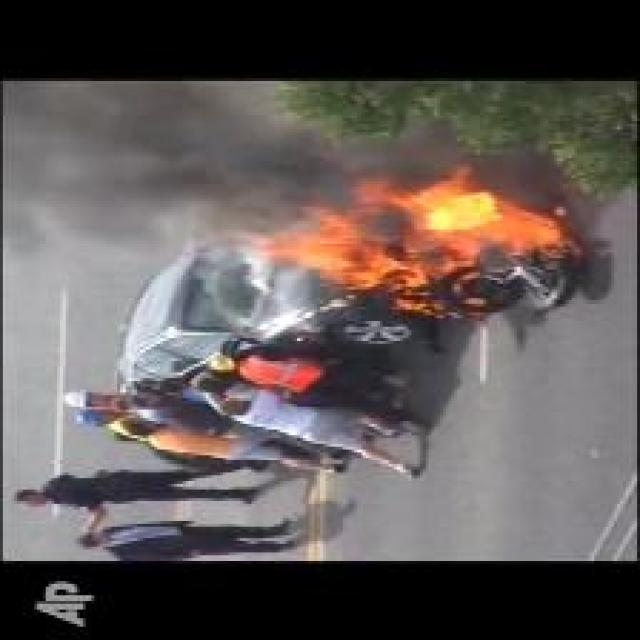Fire: (268, 161, 580, 313)
